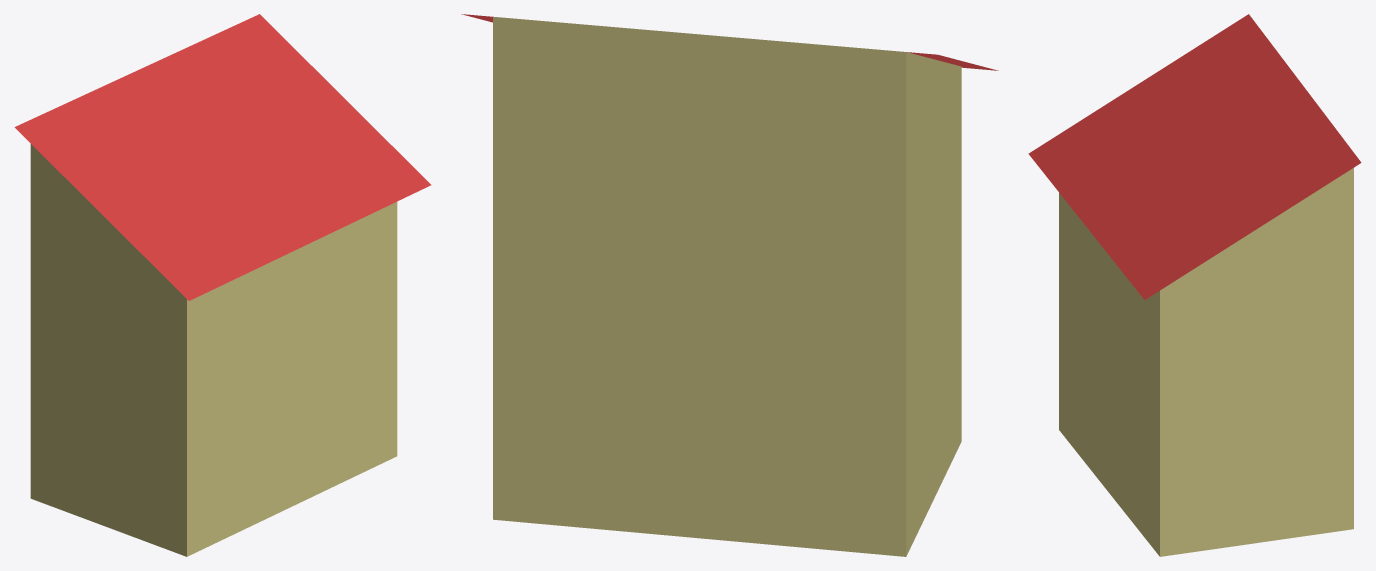
3 renders of one model, left to right at view 1: azimuth 30°, elevation 25°; view 2: azimuth 150°, elevation 25°; view 3: azimuth 270°, elevation 25°, orthographic. The views are drawn at different scales.
Size of the model in its own units: 8.67 by 6.87 by 8.6.
